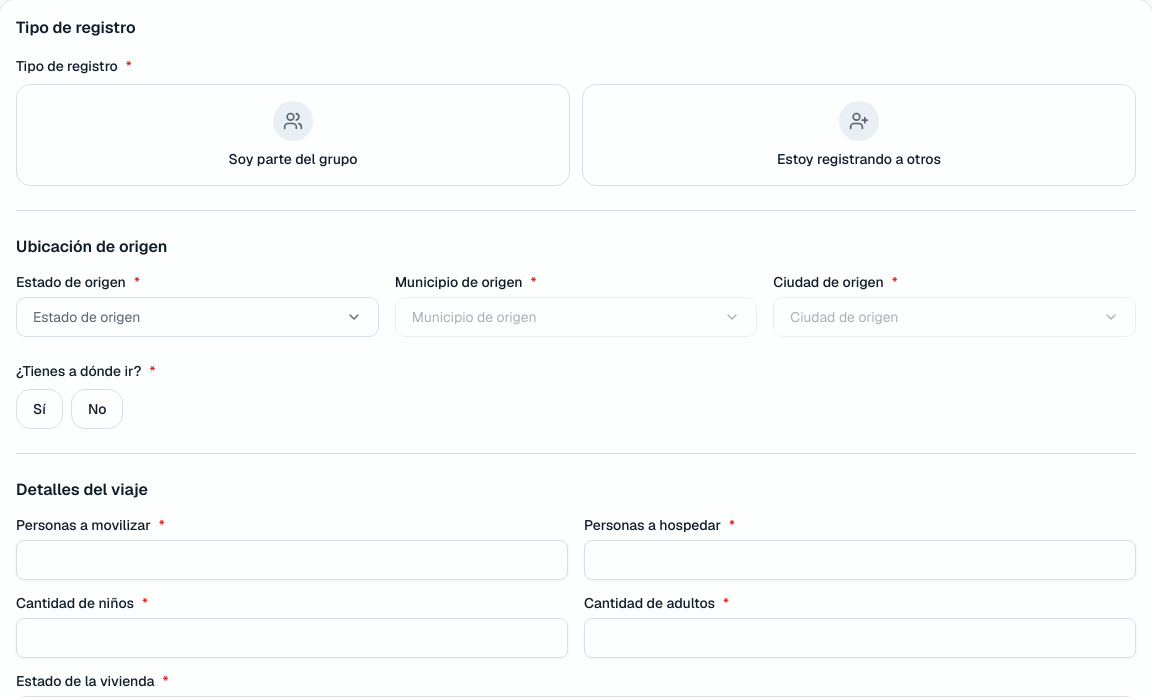
Test: TravelRequestForm › only shows the relation field when registering on behalf of others
Check: the field labelled "Relación con los damnificados" is not shown
Click the radio button labelled "Estoy registrando a otros" at (859, 135), box [582,84,1136,186]
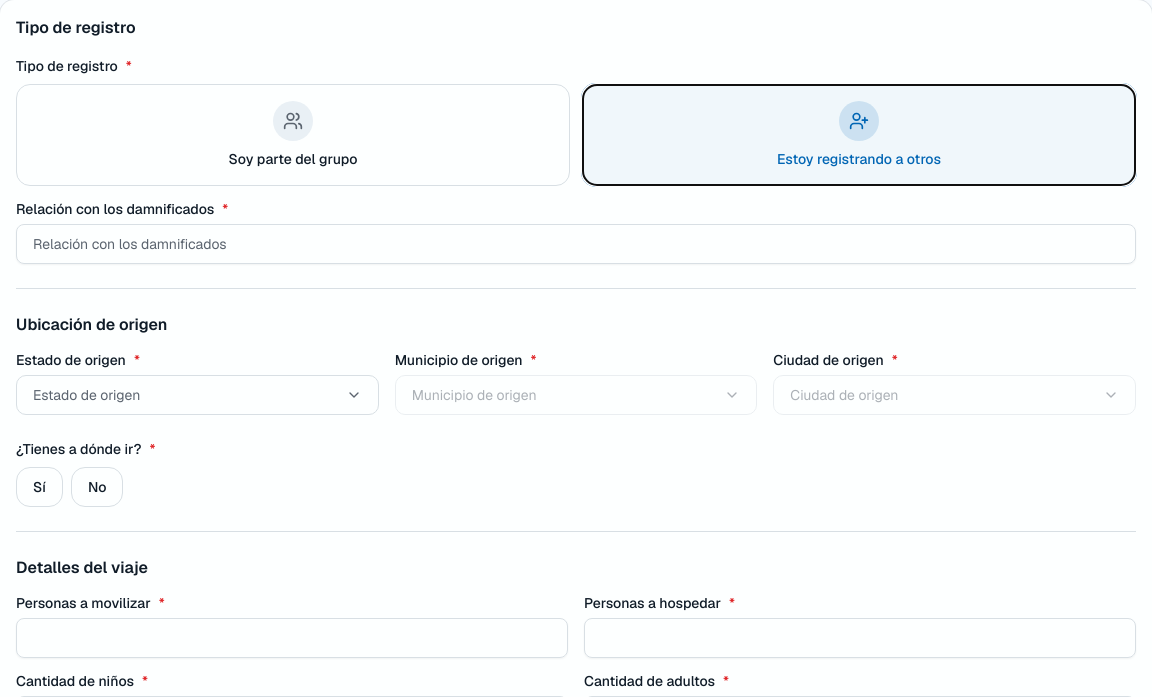
Check: the field labelled "Relación con los damnificados *" is shown, box [16,224,1136,264]
Click the radio button labelled "Soy parte del grupo" at (293, 135), box [16,84,570,186]
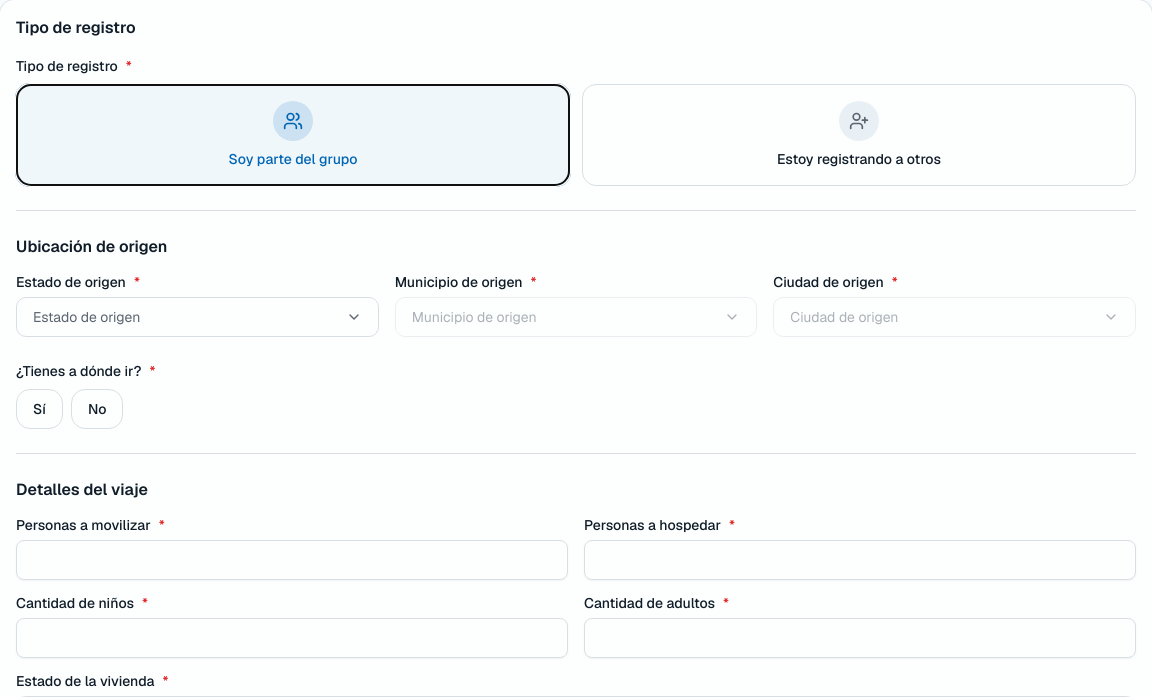
Check: the label labelled "Relación con los damnificados" is gone
